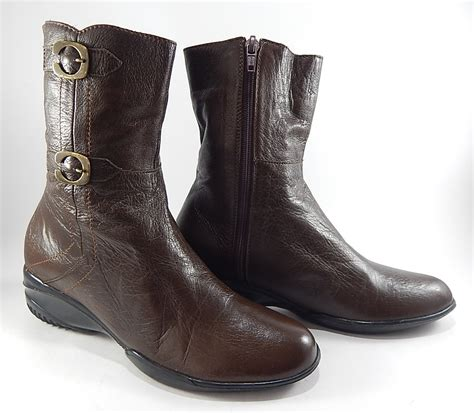cuero: (22, 18, 455, 386)
